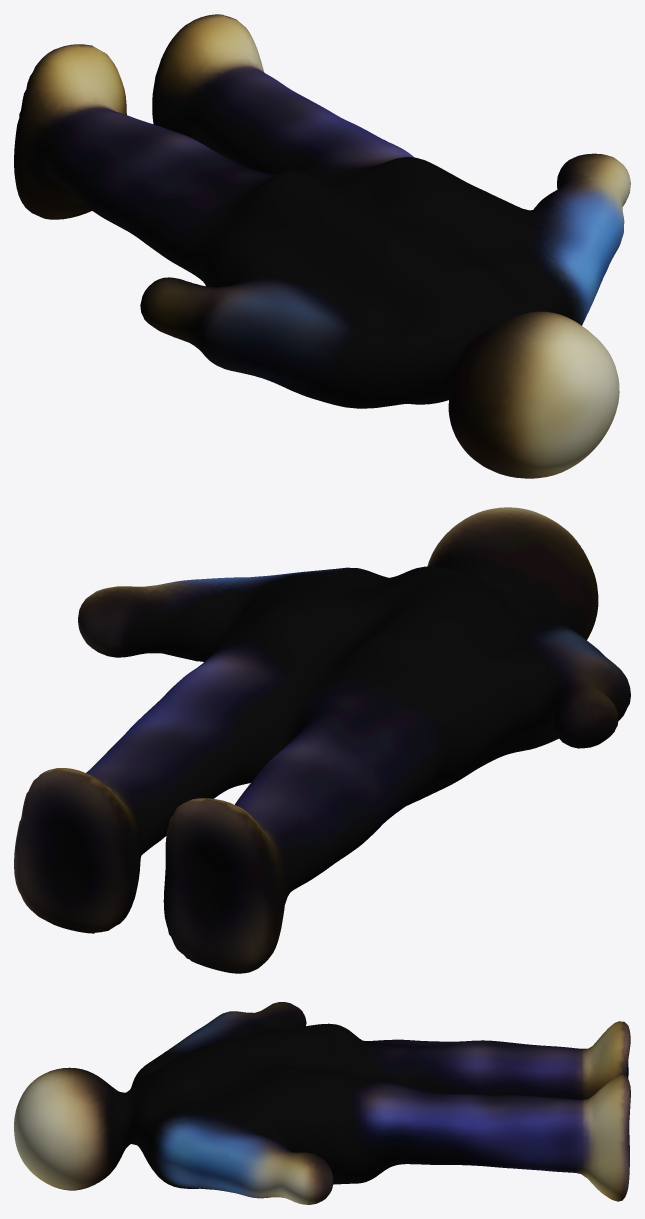
File: grandfather.glb
The picture shows the model from 3 angles, top to bottom: view 1: azimuth 30°, elevation 25°; view 2: azimuth 150°, elevation 25°; view 3: azimuth 270°, elevation 25°; orthographic projection. The views are drawn at different scales.
Size of the model in its own units: 0.6853 by 0.2389 by 0.9998.
